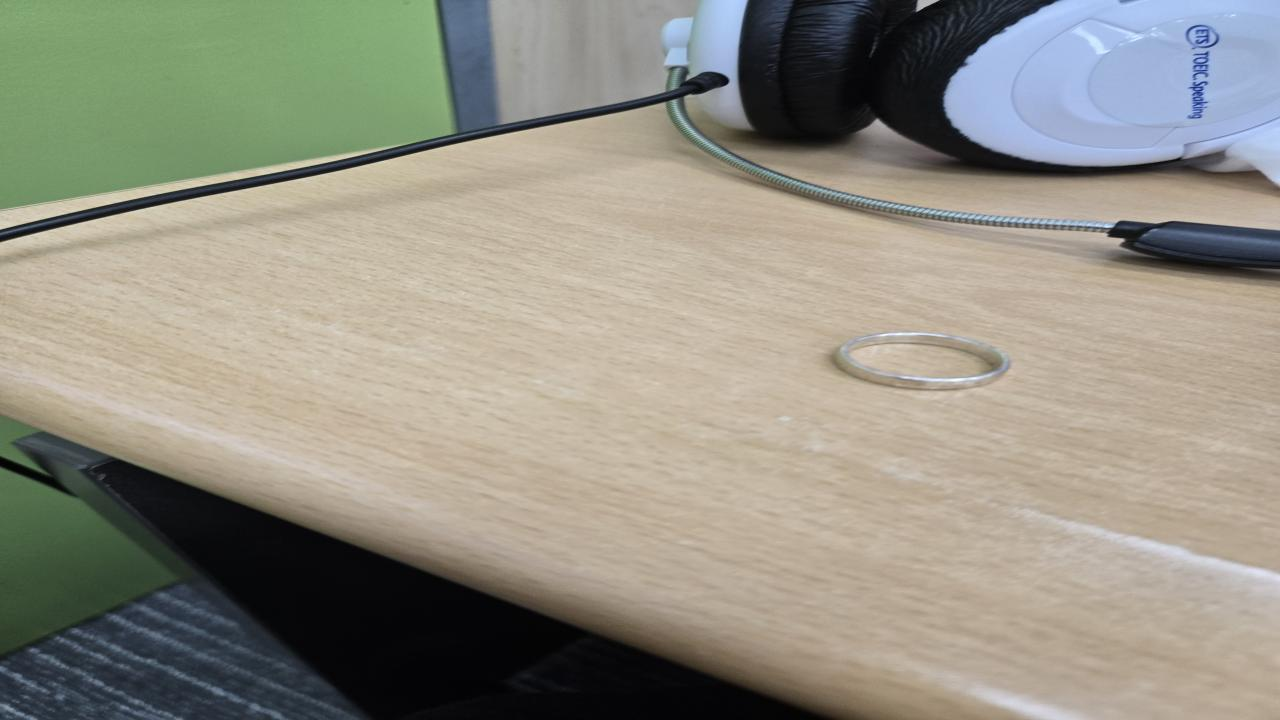ring: (829, 331, 1013, 391)
